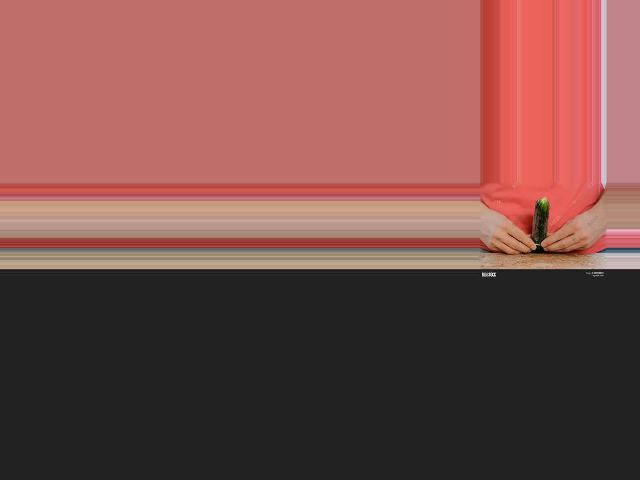cucumber: (532, 198, 550, 253)
